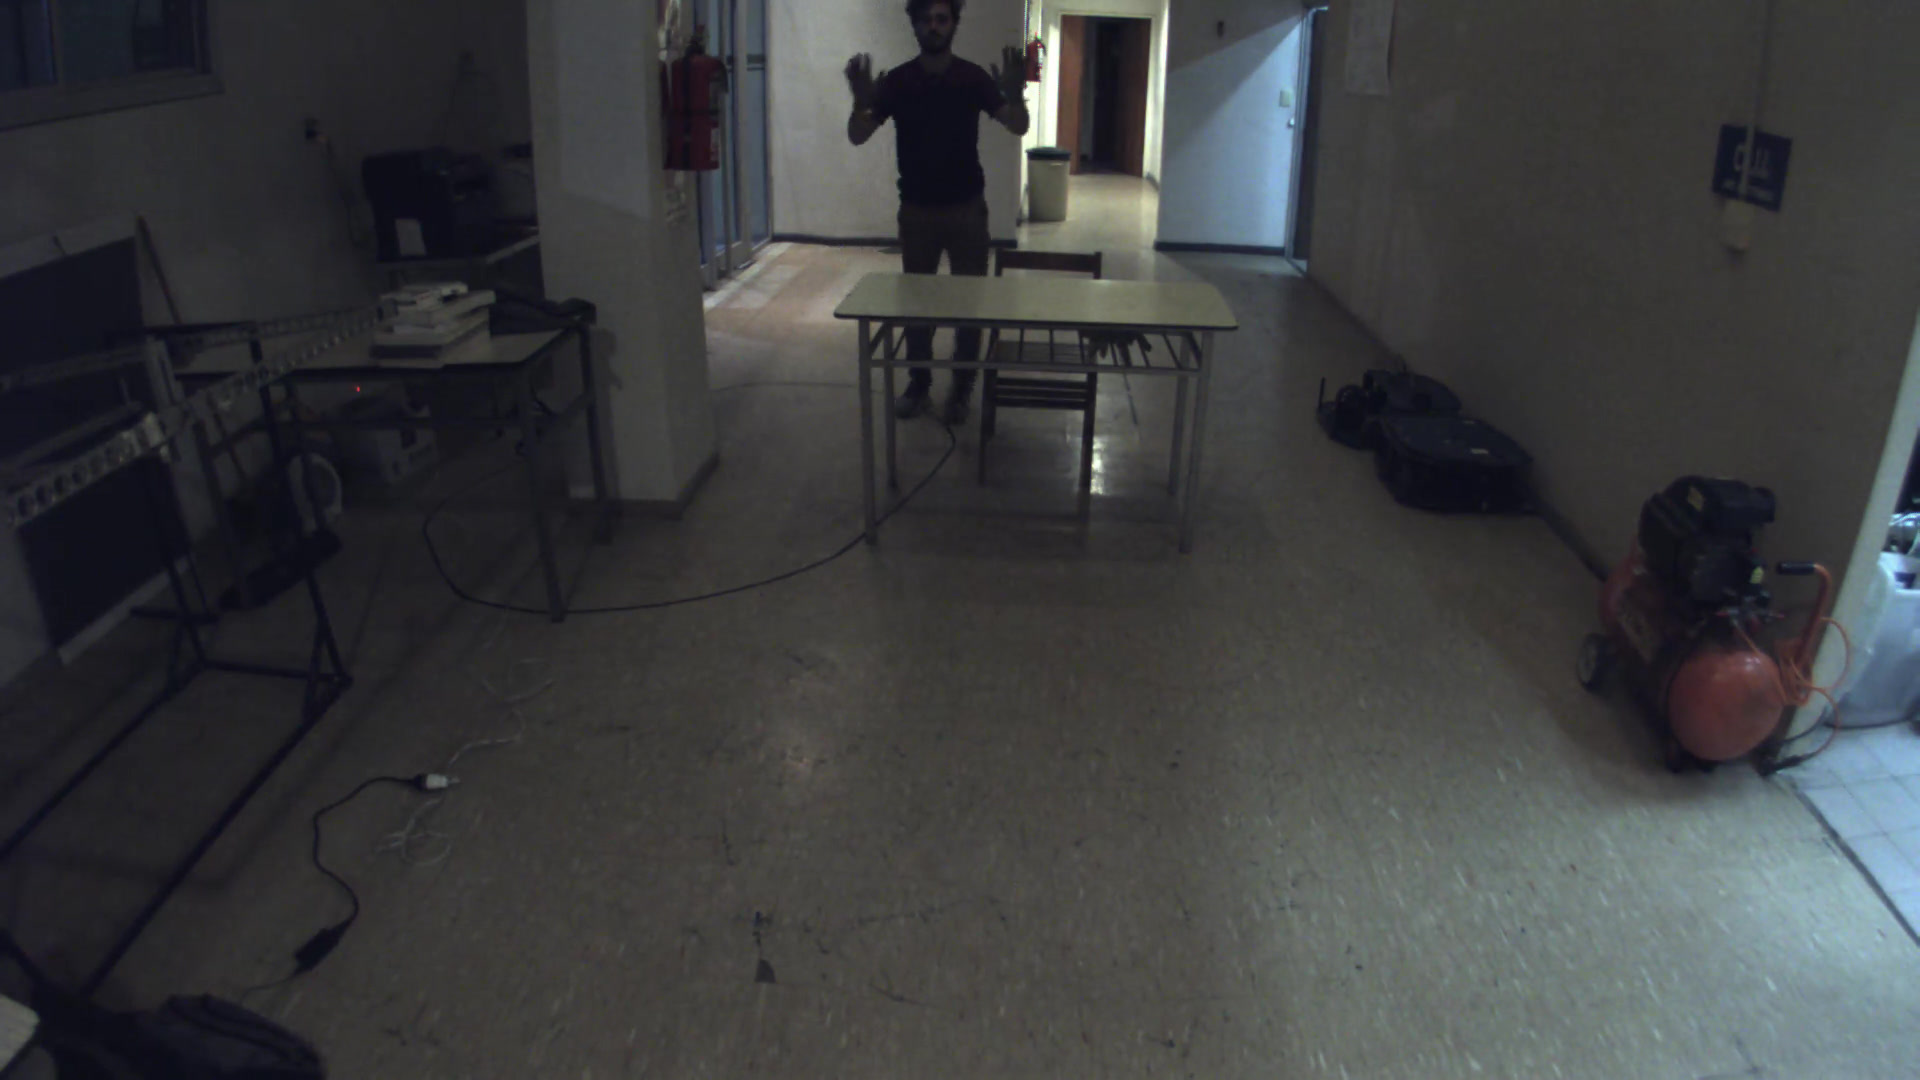hand: (835, 50, 893, 111)
